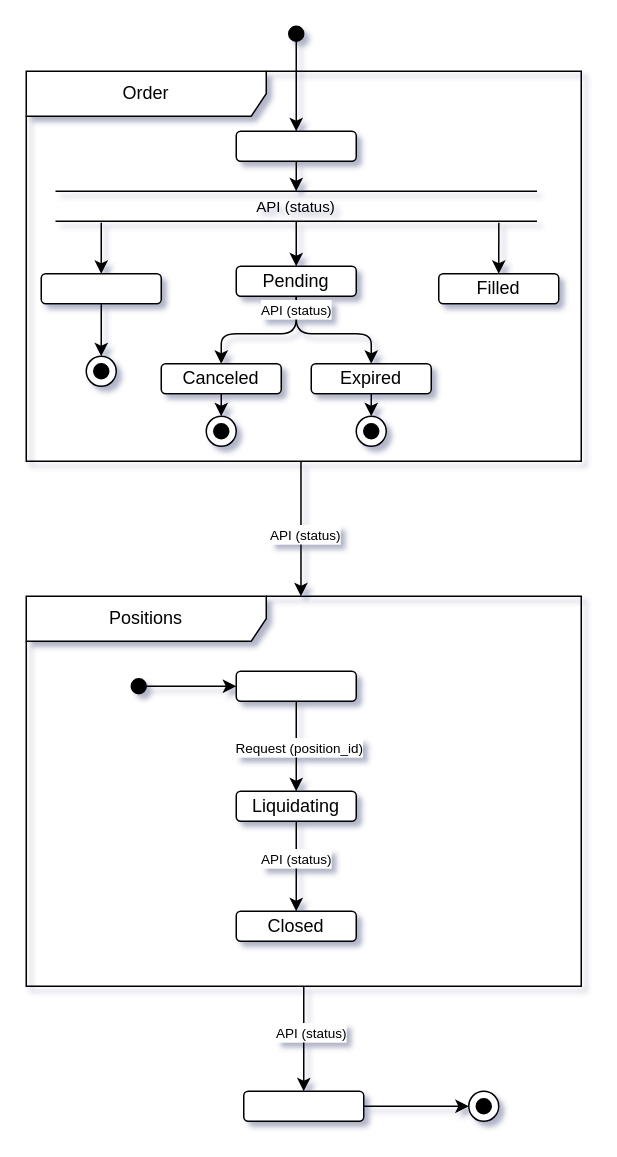
The diagram is 617 pixels wide and 1157 high, and some of its shapes have lost their labels. Here are the shapes that lost their labels. From the top down, the centre of each, then its label:
At (x=295, y=145): "Sending".
At (x=100, y=288): "Rejected".
At (x=295, y=685): "Open".
At (x=303, y=1105): "Trades".
